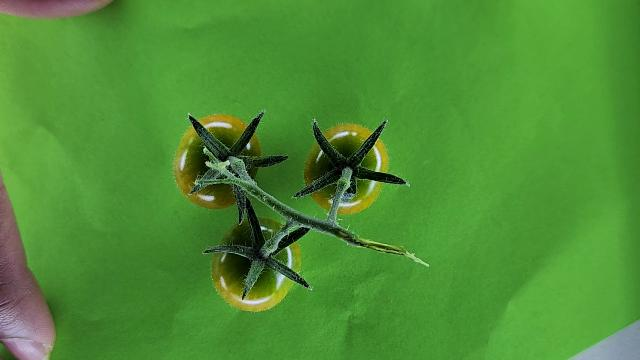Fully Grown: (209, 215, 301, 311), (173, 114, 261, 209), (303, 123, 389, 214)
